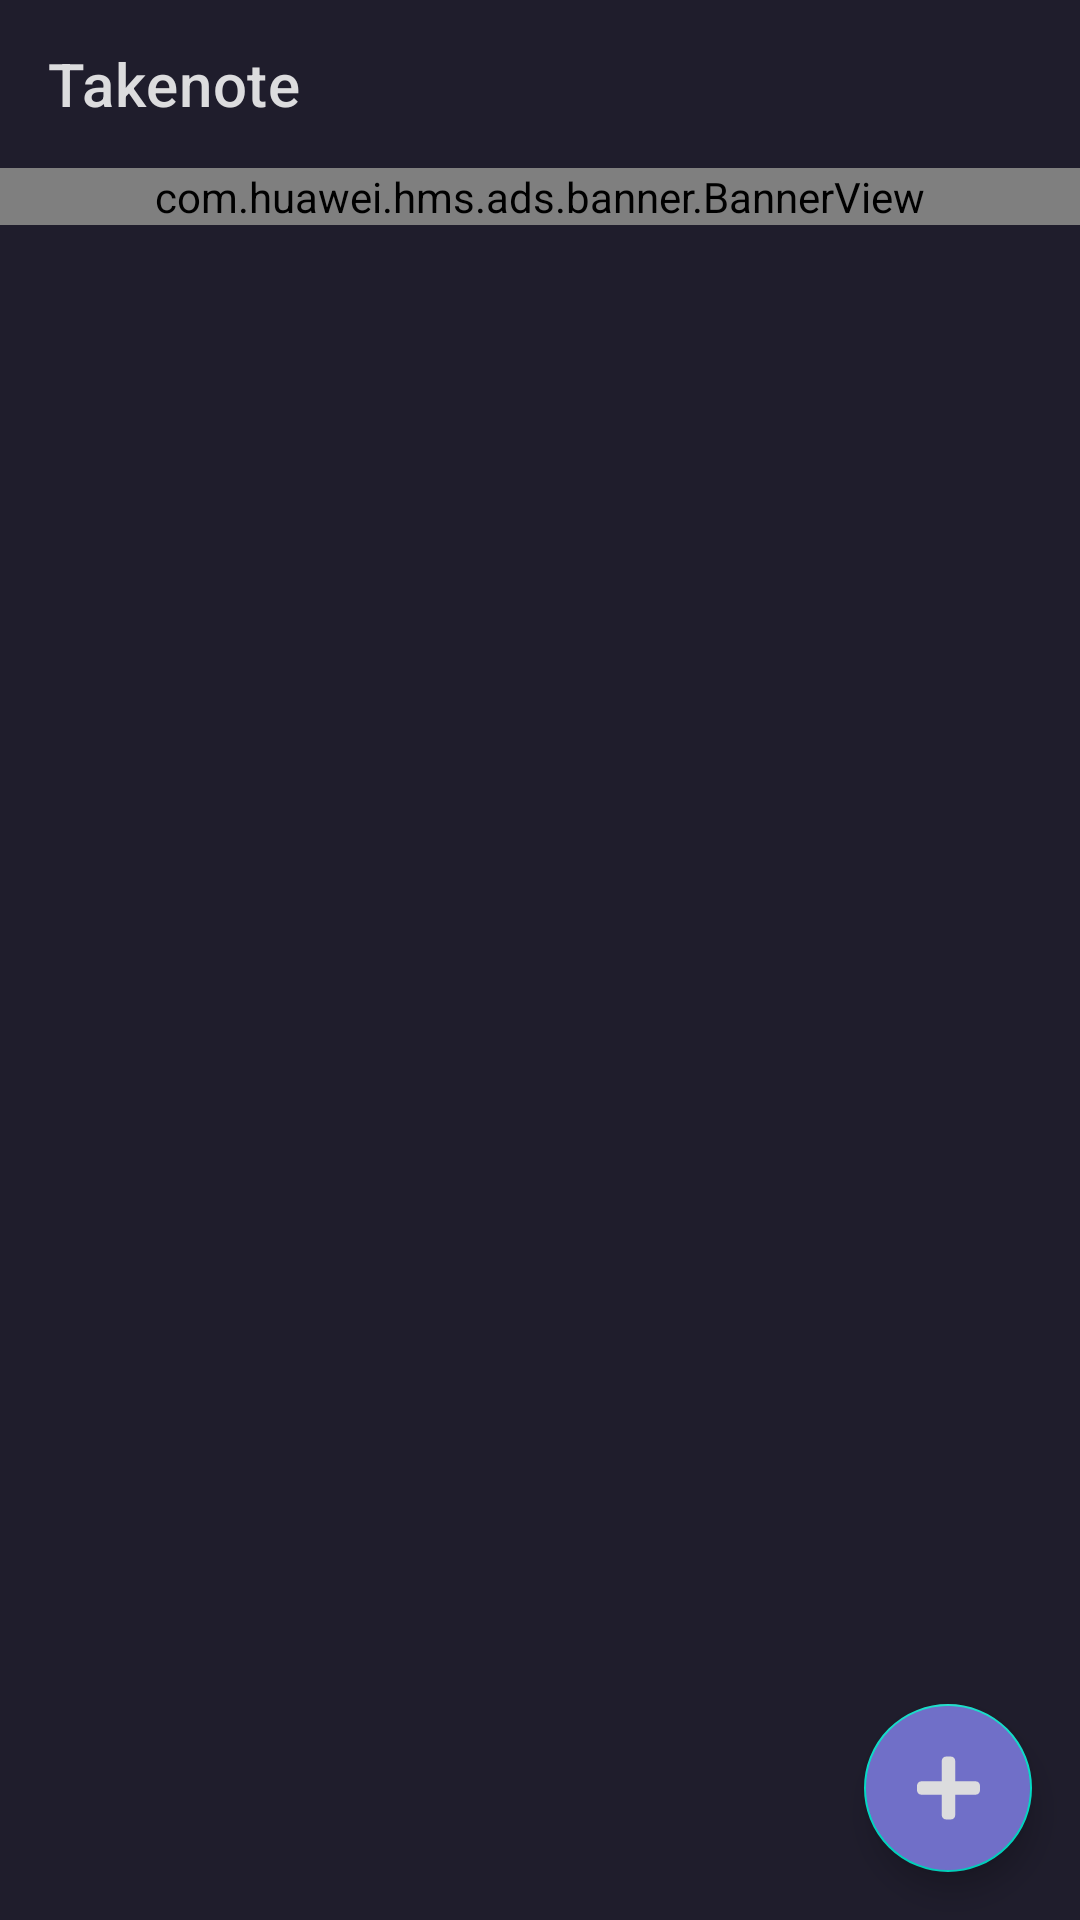

Icon click points for this 1080 x 1920 phone screenshot, format (x,y):
plus: (948,1788)
